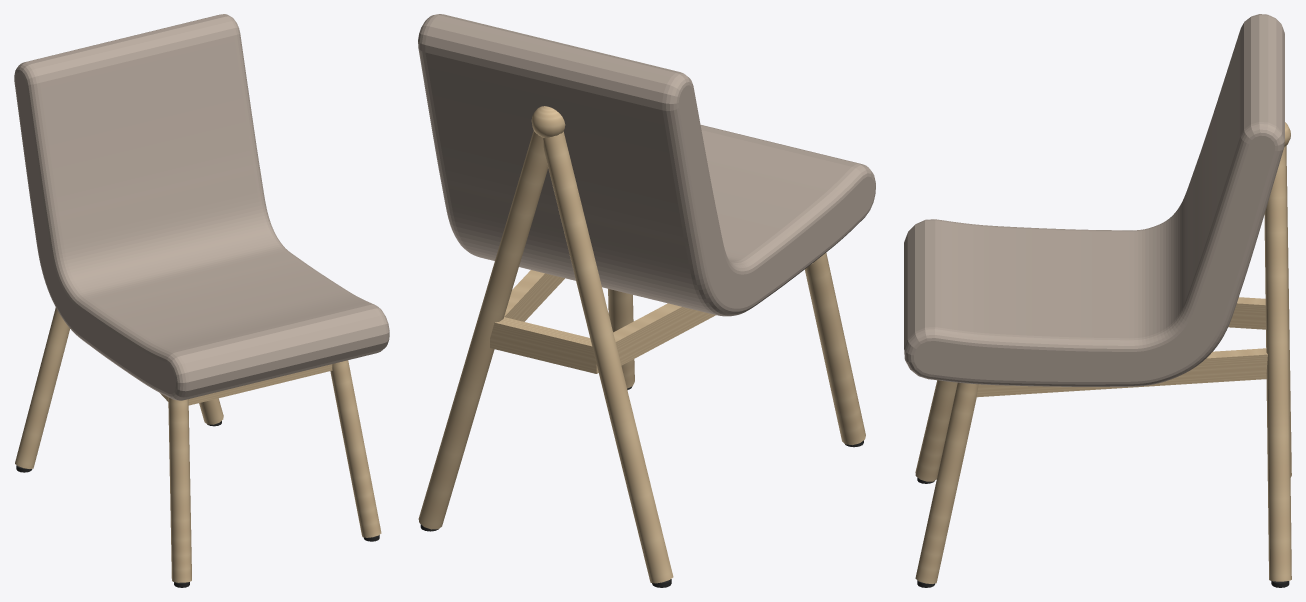
The model's file is ownVChair.glb.
The picture shows the model from 3 angles, left to right: view 1: azimuth 30°, elevation 25°; view 2: azimuth 150°, elevation 25°; view 3: azimuth 270°, elevation 25°; orthographic projection. The views are drawn at different scales.
Size of the model in its own units: 0.46 by 0.852 by 0.6459.
Materials: 3 (1 with a texture image).
